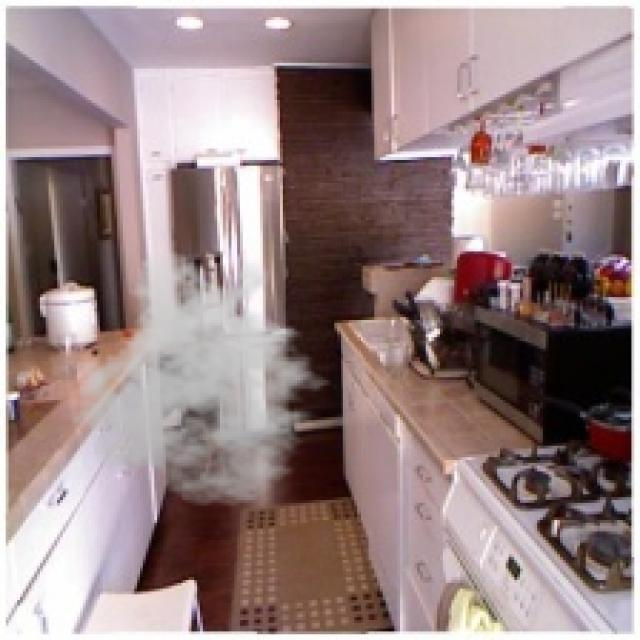Smoke: (68, 248, 346, 508)
